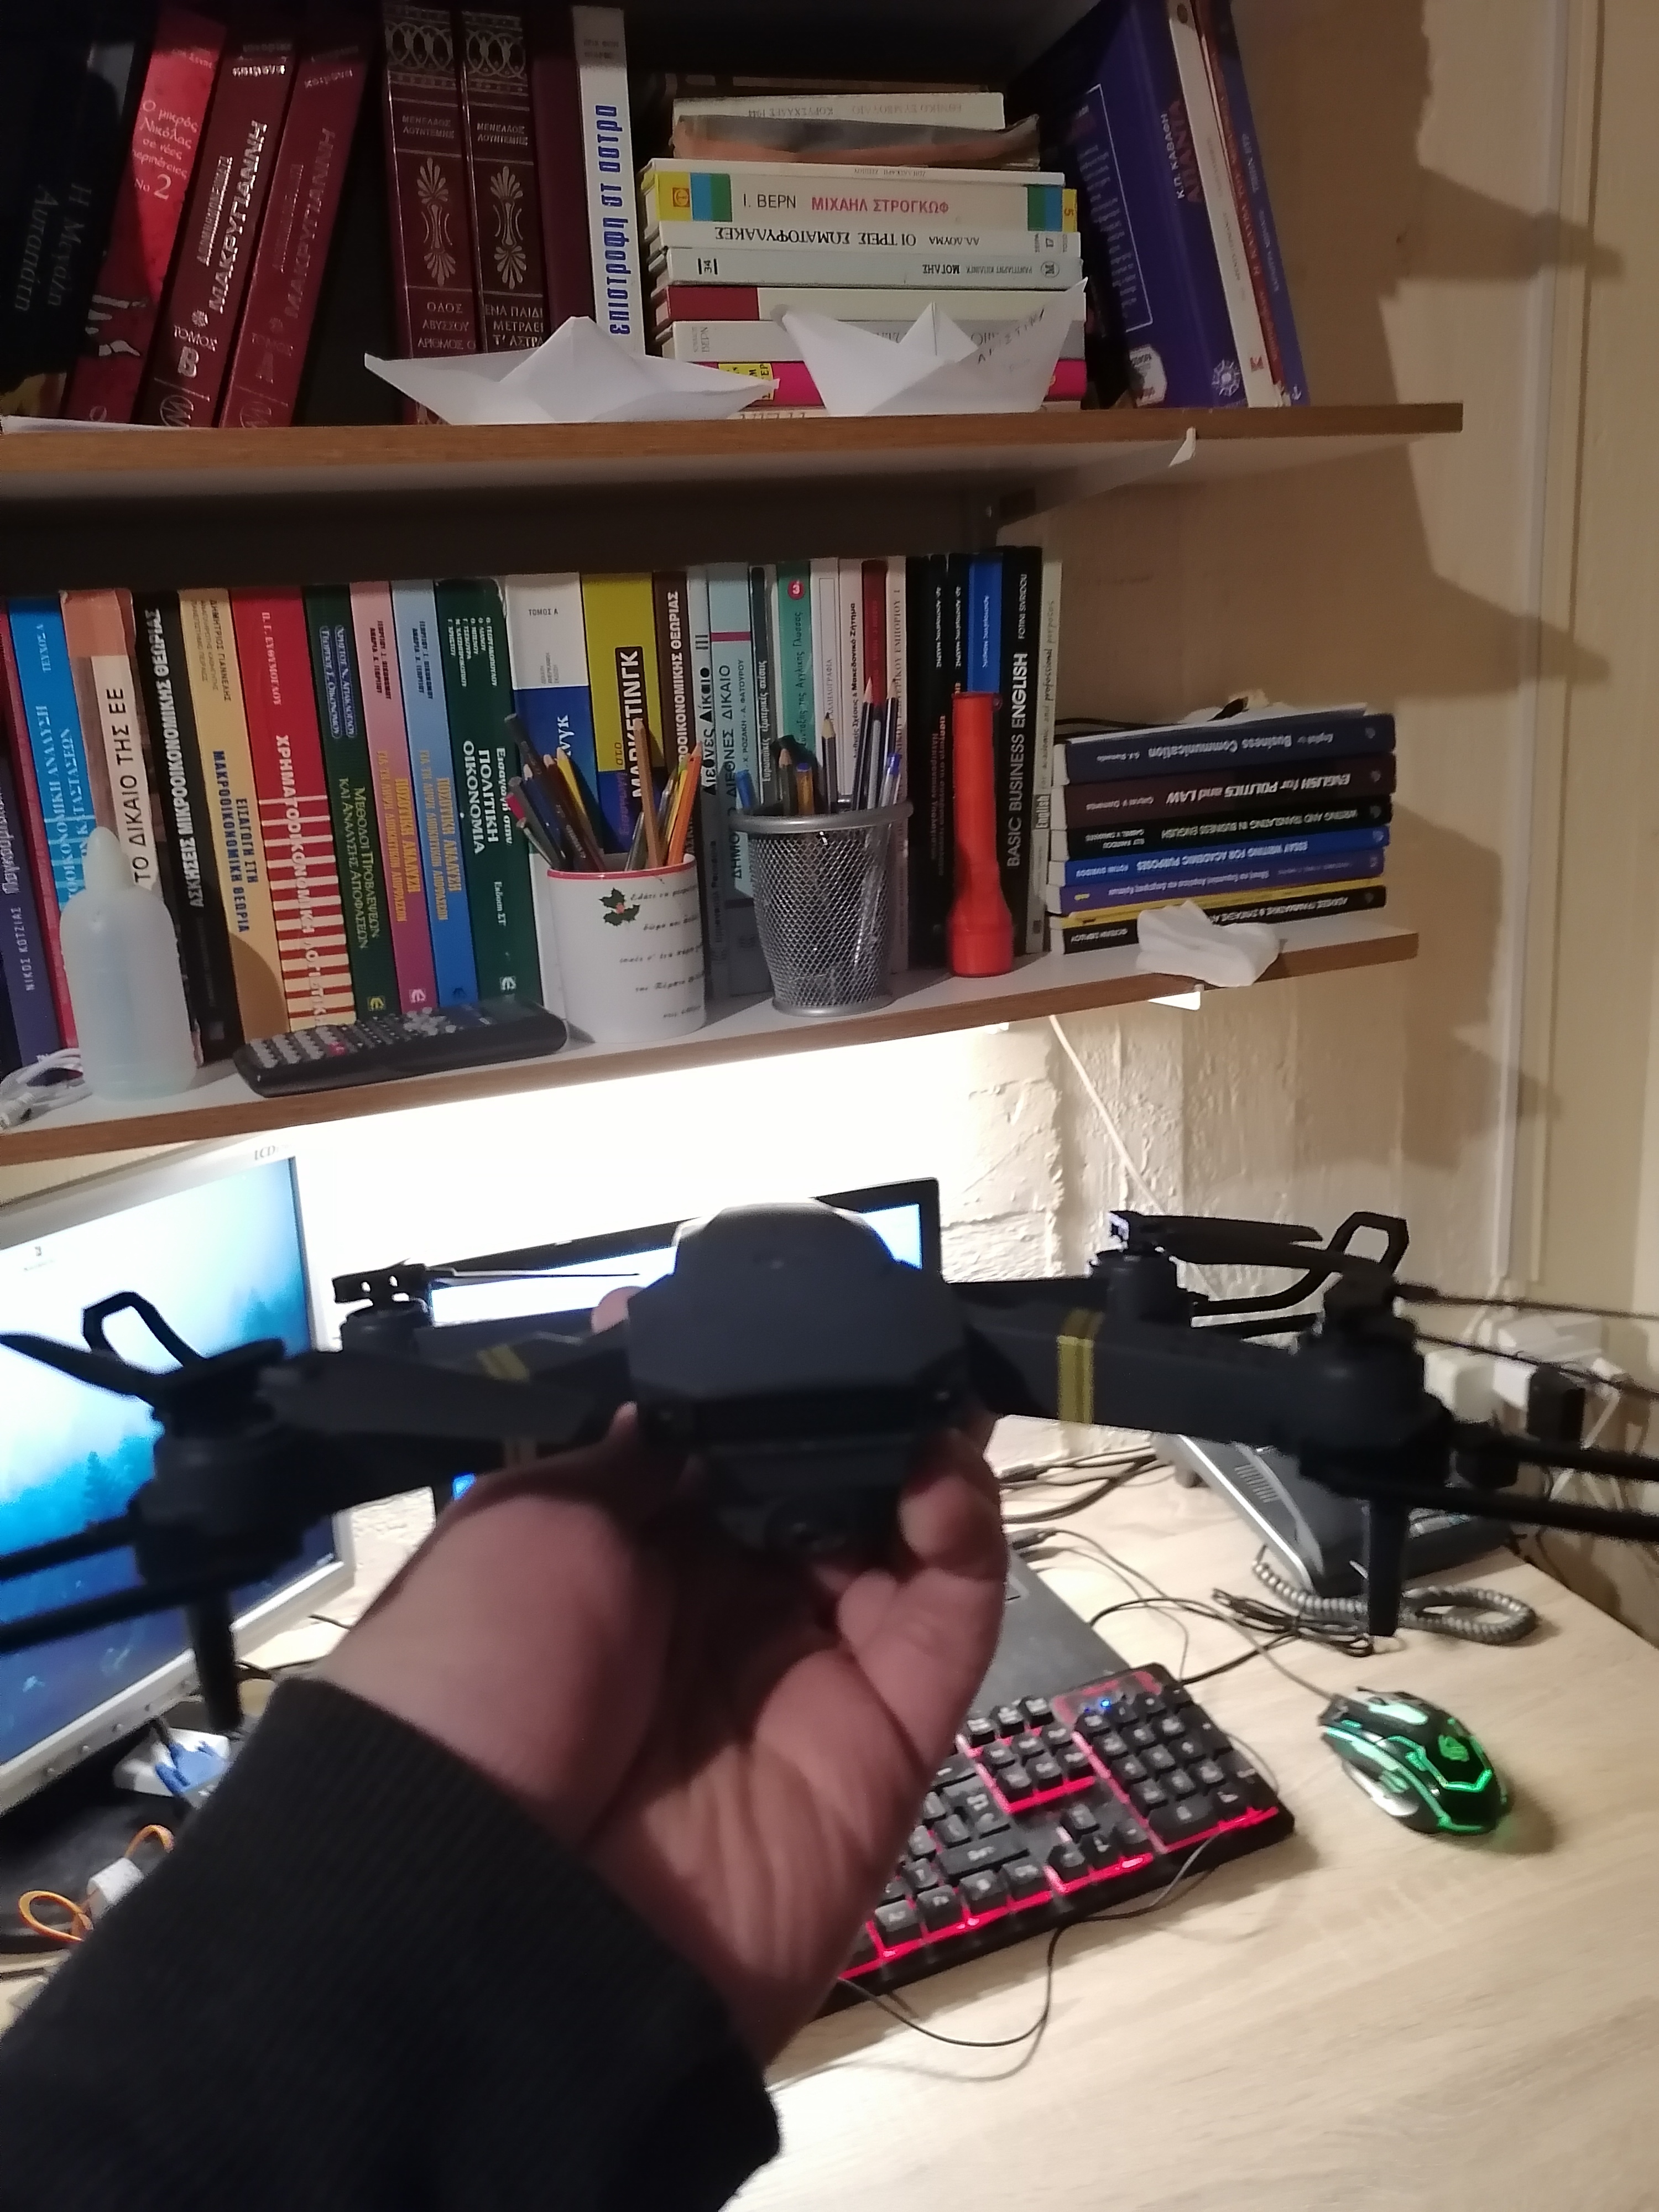drone: (0, 1197, 1633, 1656)
